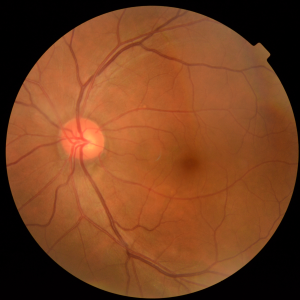healthy_eye: (31, 93, 268, 216)
